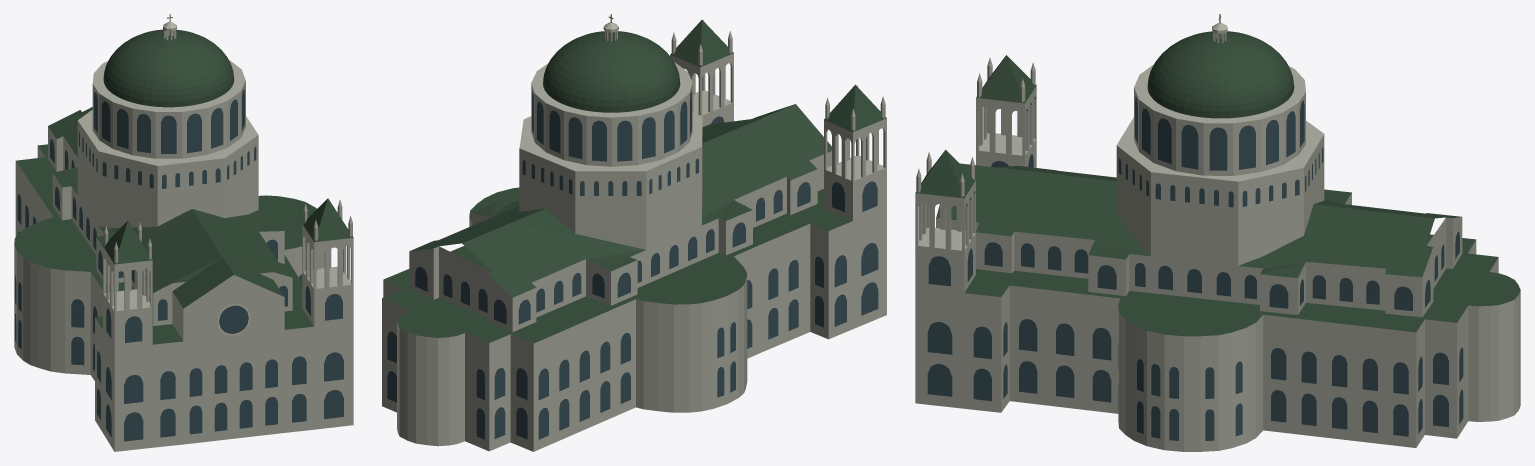
The model's file is cathedral-basilica-st-louis-near.glb.
The picture shows the model from 3 angles, left to right: view 1: azimuth 30°, elevation 25°; view 2: azimuth 150°, elevation 25°; view 3: azimuth 270°, elevation 25°; orthographic projection. The views are drawn at different scales.
Visible parts, largest first — view 1: cathedral-basilica-st-louis-0-stone, cathedral-basilica-st-louis-0-green, cathedral-basilica-st-louis-0-glass; view 2: cathedral-basilica-st-louis-0-stone, cathedral-basilica-st-louis-0-green, cathedral-basilica-st-louis-0-glass; view 3: cathedral-basilica-st-louis-0-stone, cathedral-basilica-st-louis-0-green, cathedral-basilica-st-louis-0-glass.
Part boxes in pixels (x1,y1,x2,y2): cathedral-basilica-st-louis-0-stone: [14, 21, 353, 451]; cathedral-basilica-st-louis-0-green: [14, 29, 353, 344]; cathedral-basilica-st-louis-0-glass: [15, 89, 343, 441]; cathedral-basilica-st-louis-0-stone: [382, 20, 886, 451]; cathedral-basilica-st-louis-0-green: [382, 20, 886, 343]; cathedral-basilica-st-louis-0-glass: [387, 91, 878, 439]; cathedral-basilica-st-louis-0-stone: [915, 23, 1520, 451]; cathedral-basilica-st-louis-0-green: [915, 31, 1520, 336]; cathedral-basilica-st-louis-0-glass: [927, 97, 1463, 440].
Size of the model in its own units: 66.04 by 69 by 104.
